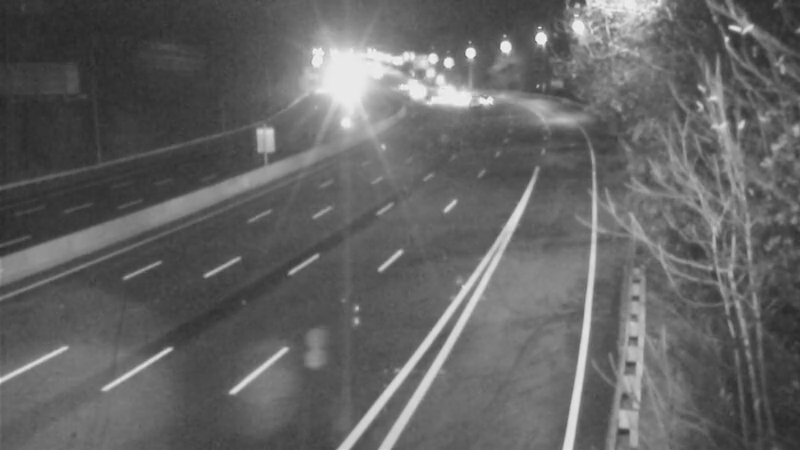vehicle: (393, 69, 443, 119), (426, 70, 476, 120), (409, 75, 459, 125), (439, 75, 489, 125), (457, 75, 507, 125)
